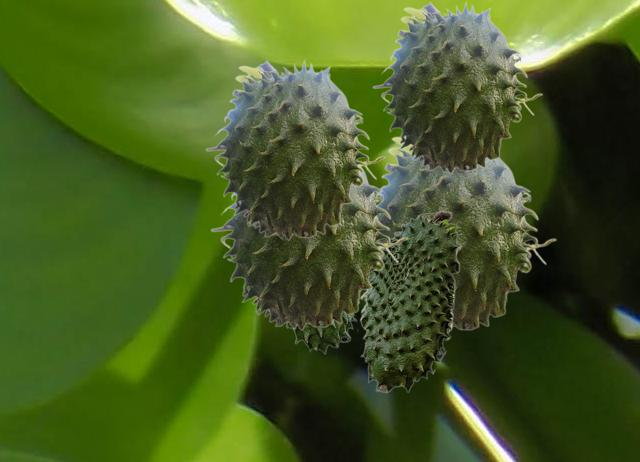guyabano: (377, 136, 556, 333), (205, 58, 385, 240), (210, 167, 408, 330), (372, 0, 542, 173), (359, 210, 460, 392), (285, 300, 360, 353)
